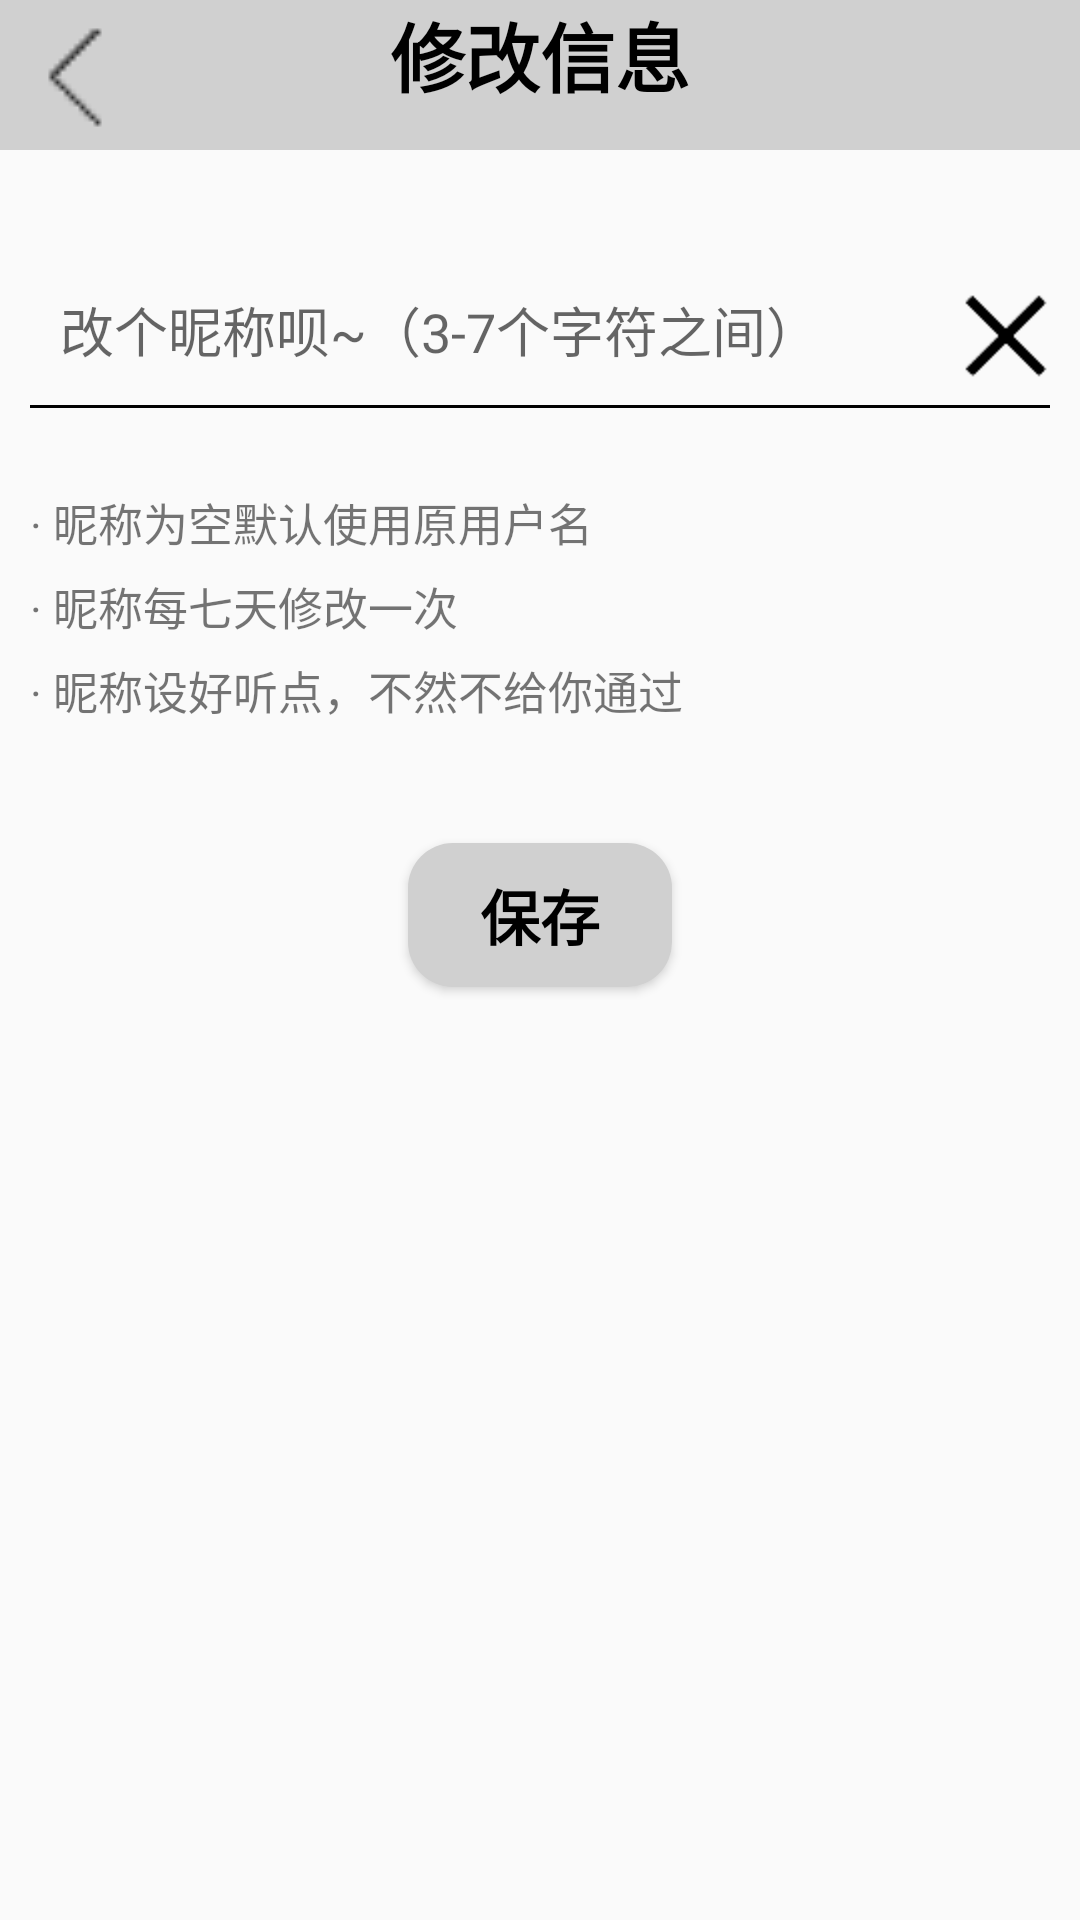

Named icons in this screenshot (1080*1920) and their bounding boxes, (x1, y1, x2, y2):
angle brackets left: (48, 28, 102, 127)
xmark: (965, 295, 1047, 377)
